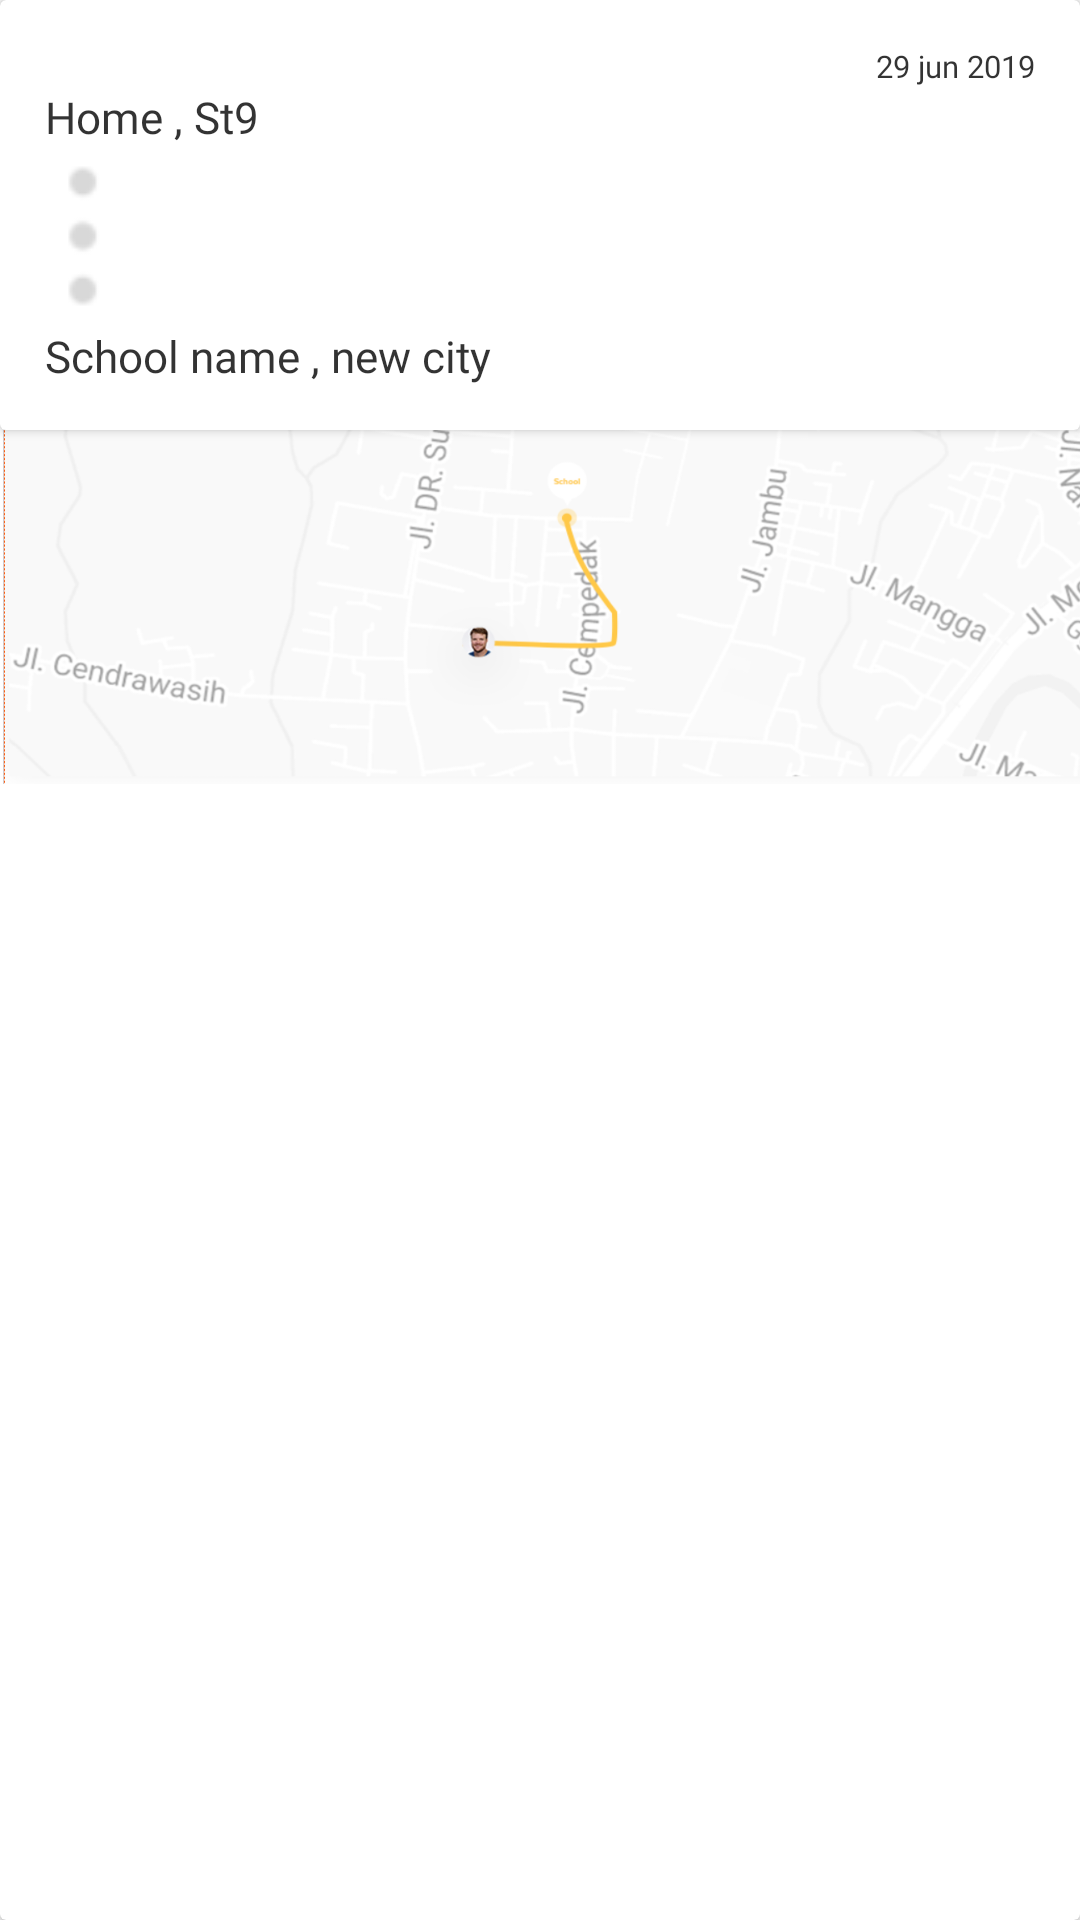

Named icons in this screenshot (1080x1920) and their centers, point (x, y):
points: point (82, 236)
